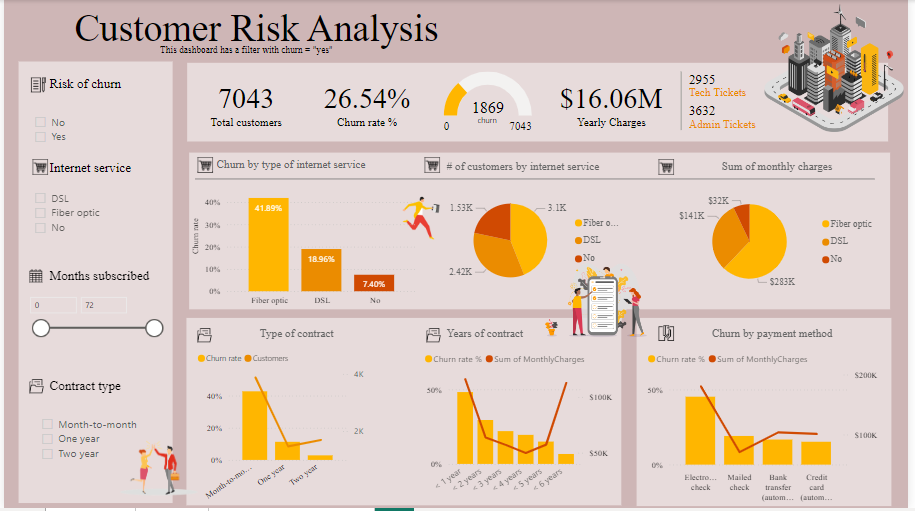

The page's visual inventory and layout, read from the dashboard file:
{"tool":"powerbi","page":{"name":"Customer Risk Analysis","canvas":[1280,720],"ordinal":2},"visuals":[{"type":"basicShape","box":[249.8,87.8,1013.8,113.8],"z":0},{"type":"basicShape","box":[892.9,447.9,368.5,272.1],"z":1000},{"type":"basicShape","box":[251.8,448.5,628.9,271],"z":2000},{"type":"textbox","box":[94.5,4.8,1167.1,75.2],"z":3000},{"type":"basicShape","box":[251.8,214.2,1013.8,226.7],"z":4000},{"type":"basicShape","box":[18.3,81,222.8,638.6],"z":5000},{"type":"card","fields":{"Values":["Count(churn.customerID)"]},"box":[261.4,89,164.9,113.8],"z":6000},{"type":"gauge","fields":{"MaxValue":["CountNonNull(churn.customerID)"],"Y":["churn.Count of Churn for Yes"]},"box":[603.8,96.2,164,99.4],"z":7000},{"type":"slicer","fields":{"Values":["churn.Contract"]},"box":[40.5,584.5,178.4,79.1],"z":8000},{"type":"card","fields":{"Values":["Sum(churn.TotalCharges)"]},"box":[778.4,89,164.9,113.8],"z":9000},{"type":"slicer","fields":{"Values":["churn.Churn"]},"box":[31.8,156.3,173.6,57.9],"z":10000},{"type":"image","box":[557.5,242.1,66.6,129.3],"z":11000},{"type":"image","box":[150.5,610.6,136,105.1],"z":12000},{"type":"slicer","title":"Number of months subscribed","fields":{"Values":["churn.tenure"]},"box":[24.1,410.9,210.3,70.4],"z":13000},{"type":"textbox","box":[59.8,102.2,174.6,40.5],"z":14000},{"type":"textbox","box":[59.8,374.3,185.2,39.5],"z":15000},{"type":"image","box":[31.8,374.3,28,34.7],"z":16000},{"type":"textbox","box":[59.8,529.6,159.2,40.5],"z":17000},{"type":"image","box":[31.8,105.1,34.7,30.9],"z":18000},{"type":"image","box":[31.8,524.7,29.9,45.3],"z":19000},{"type":"textbox","box":[59.8,221.2,180.4,40.5],"z":20000},{"type":"slicer","fields":{"Values":["churn.InternetService"]},"box":[31.8,263.3,200.6,78.1],"z":21000},{"type":"card","fields":{"Values":["churn.churn rate %"]},"box":[437,89,156.3,113.8],"z":22000},{"type":"lineClusteredColumnComboChart","fields":{"Category":["churn.Contract"],"Y":["churn.churn rate %"],"Y2":["CountNonNull(churn.customerID)"]},"box":[269.1,489,246.9,230.5],"z":23000},{"type":"lineClusteredColumnComboChart","fields":{"Y":["churn.churn rate %"],"Y2":["Sum(churn.MonthlyCharges)"],"Category":["churn.Loyalty"]},"box":[591.3,489,276.8,230.5],"z":24000},{"type":"textbox","box":[296.1,220,300.9,40.5],"z":25000},{"type":"basicShape","box":[261.4,234.4,982.9,39.5],"z":26000},{"type":"clusteredColumnChart","fields":{"Category":["churn.InternetService"],"Y":["churn.churn rate %"]},"box":[260.8,242.4,330.2,198.4],"z":27000},{"type":"pieChart","fields":{"Y":["Sum(churn.MonthlyCharges)"],"Category":["churn.InternetService"]},"box":[949.1,264.3,295.2,154.3],"z":28000},{"type":"pieChart","fields":{"Category":["churn.InternetService"],"Y":["CountNonNull(churn.customerID)"]},"box":[622.2,261.4,270.1,160.1],"z":29000},{"type":"textbox","box":[954,221.9,283.6,40.5],"z":30000},{"type":"textbox","box":[622.2,221.9,285.5,40.5],"z":31000},{"type":"textbox","box":[296.1,459.1,237.3,40.5],"z":32000},{"type":"textbox","box":[622.2,459.1,270.1,40.5],"z":33000},{"type":"lineClusteredColumnComboChart","fields":{"Y":["churn.churn rate %"],"Y2":["Sum(churn.MonthlyCharges)"],"Category":["churn.PaymentMethod"]},"box":[907.7,489,336.6,230.5],"z":34000},{"type":"textbox","box":[954.3,459.1,270.1,40.5],"z":35000},{"type":"multiRowCard","fields":{"Values":["Sum(churn.numTechTickets)","Sum(churn.numAdminTickets)"]},"box":[954,96.2,207.4,99.4],"z":36000},{"type":"image","box":[922.1,452.4,31.8,39.5],"z":37000},{"type":"image","box":[593.2,452.4,29.9,45.3],"z":38000},{"type":"image","box":[269.1,451.4,29.9,45.3],"z":39000},{"type":"image","box":[34.7,219.9,31.8,34.7],"z":40000},{"type":"image","box":[269.1,217,31.8,34.7],"z":41000},{"type":"image","box":[591.3,217,31.8,34.7],"z":42000},{"type":"image","box":[922.1,219.9,31.8,34.7],"z":43000},{"type":"textbox","box":[666.5,156.3,57.9,28.9],"z":44000},{"type":"image","box":[1072.6,0,207.4,193.9],"z":45000},{"type":"image","box":[752.4,361.7,191,129.3],"z":46000},{"type":"textbox","box":[165.8,56.7,355.7,48.2],"z":47000}]}

Visuals, with their boxes in screenshot pixels (x1, y1, x2, y2), scaled from the page's 1280x720 canvas onto the 915x511 screenshot:
basicShape: {"x1": 179, "y1": 62, "x2": 903, "y2": 143}
basicShape: {"x1": 638, "y1": 318, "x2": 902, "y2": 510}
basicShape: {"x1": 180, "y1": 318, "x2": 630, "y2": 510}
textbox: {"x1": 68, "y1": 3, "x2": 902, "y2": 57}
basicShape: {"x1": 180, "y1": 152, "x2": 905, "y2": 313}
basicShape: {"x1": 13, "y1": 57, "x2": 172, "y2": 510}
card - Count(churn.customerID): {"x1": 187, "y1": 63, "x2": 305, "y2": 144}
gauge - CountNonNull(churn.customerID) x churn.Count of Churn for Yes: {"x1": 432, "y1": 68, "x2": 549, "y2": 139}
slicer - churn.Contract: {"x1": 29, "y1": 415, "x2": 156, "y2": 471}
card - Sum(churn.TotalCharges): {"x1": 556, "y1": 63, "x2": 674, "y2": 144}
slicer - churn.Churn: {"x1": 23, "y1": 111, "x2": 147, "y2": 152}
image: {"x1": 399, "y1": 172, "x2": 446, "y2": 264}
image: {"x1": 108, "y1": 433, "x2": 205, "y2": 508}
"Number of months subscribed" slicer: {"x1": 17, "y1": 292, "x2": 168, "y2": 342}
textbox: {"x1": 43, "y1": 73, "x2": 168, "y2": 101}
textbox: {"x1": 43, "y1": 266, "x2": 175, "y2": 294}
image: {"x1": 23, "y1": 266, "x2": 43, "y2": 290}
textbox: {"x1": 43, "y1": 376, "x2": 157, "y2": 405}
image: {"x1": 23, "y1": 75, "x2": 48, "y2": 97}
image: {"x1": 23, "y1": 372, "x2": 44, "y2": 405}
textbox: {"x1": 43, "y1": 157, "x2": 172, "y2": 186}
slicer - churn.InternetService: {"x1": 23, "y1": 187, "x2": 166, "y2": 242}
card - churn.churn rate %: {"x1": 312, "y1": 63, "x2": 424, "y2": 144}
lineClusteredColumnComboChart - churn.Contract x churn.churn rate %: {"x1": 192, "y1": 347, "x2": 369, "y2": 510}
lineClusteredColumnComboChart - churn.churn rate % x Sum(churn.MonthlyCharges): {"x1": 423, "y1": 347, "x2": 621, "y2": 510}
textbox: {"x1": 212, "y1": 156, "x2": 427, "y2": 185}
basicShape: {"x1": 187, "y1": 166, "x2": 889, "y2": 194}
clusteredColumnChart - churn.InternetService x churn.churn rate %: {"x1": 186, "y1": 172, "x2": 422, "y2": 313}
pieChart - Sum(churn.MonthlyCharges) x churn.InternetService: {"x1": 678, "y1": 188, "x2": 889, "y2": 297}
pieChart - churn.InternetService x CountNonNull(churn.customerID): {"x1": 445, "y1": 186, "x2": 638, "y2": 299}
textbox: {"x1": 682, "y1": 157, "x2": 885, "y2": 186}
textbox: {"x1": 445, "y1": 157, "x2": 649, "y2": 186}
textbox: {"x1": 212, "y1": 326, "x2": 381, "y2": 355}
textbox: {"x1": 445, "y1": 326, "x2": 638, "y2": 355}
lineClusteredColumnComboChart - churn.churn rate % x Sum(churn.MonthlyCharges): {"x1": 649, "y1": 347, "x2": 889, "y2": 510}
textbox: {"x1": 682, "y1": 326, "x2": 875, "y2": 355}
multiRowCard - Sum(churn.numTechTickets) x Sum(churn.numAdminTickets): {"x1": 682, "y1": 68, "x2": 830, "y2": 139}
image: {"x1": 659, "y1": 321, "x2": 682, "y2": 349}
image: {"x1": 424, "y1": 321, "x2": 445, "y2": 353}
image: {"x1": 192, "y1": 320, "x2": 214, "y2": 353}
image: {"x1": 25, "y1": 156, "x2": 48, "y2": 181}
image: {"x1": 192, "y1": 154, "x2": 215, "y2": 179}
image: {"x1": 423, "y1": 154, "x2": 445, "y2": 179}
image: {"x1": 659, "y1": 156, "x2": 682, "y2": 181}
textbox: {"x1": 476, "y1": 111, "x2": 518, "y2": 131}
image: {"x1": 767, "y1": 0, "x2": 914, "y2": 138}
image: {"x1": 538, "y1": 257, "x2": 674, "y2": 348}
textbox: {"x1": 119, "y1": 40, "x2": 373, "y2": 74}
